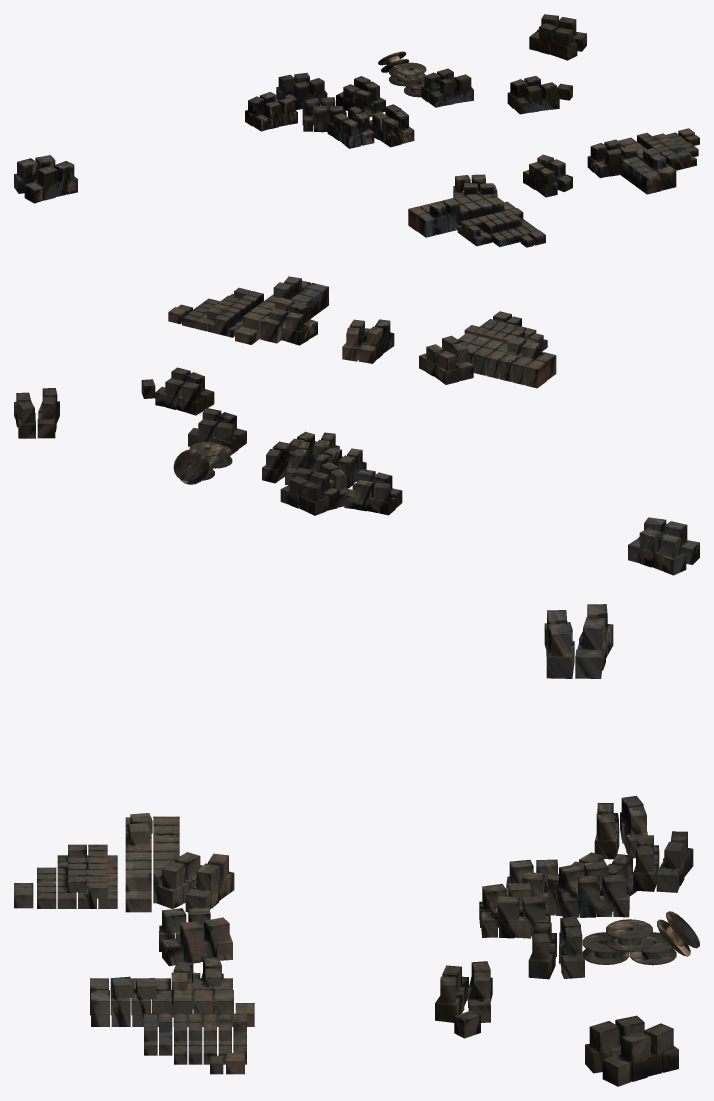
3 views of the same model, one above another, from view 1: azimuth 30°, elevation 25°; view 2: azimuth 150°, elevation 25°; view 3: azimuth 270°, elevation 25° (orthographic). The views are drawn at different scales.
Visible parts, largest first — view 1: 04; view 2: 04; view 3: 04.
Boxes of the visible parts, x1,y1,x2,y2 form: 04: (14,14,699,247); 04: (14,276,699,575); 04: (14,604,699,1086).
Bounding box in the file's own units: 3518 × 217 × 2296.
